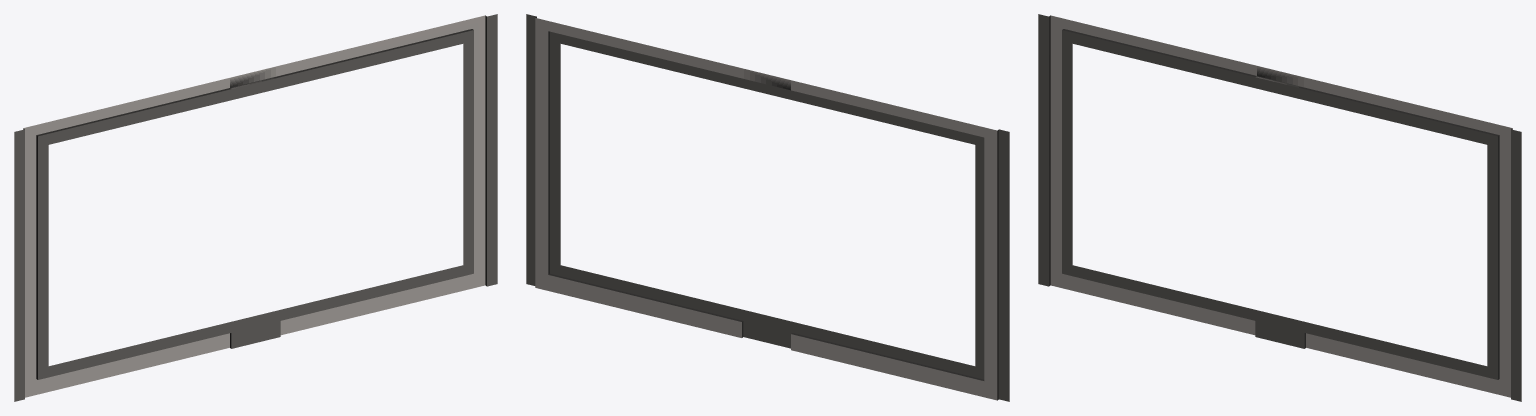
The model's file is glassWall.fbx.
3 renders of one model, left to right at view 1: azimuth 30°, elevation 25°; view 2: azimuth 150°, elevation 25°; view 3: azimuth 330°, elevation 25°, orthographic.
Visible parts, largest first — view 1: SO_Wall_Door_01; view 2: SO_Wall_Door_01; view 3: SO_Wall_Door_01.
Part boxes in pixels (x1,y1,x2,y2): SO_Wall_Door_01: (14,14,497,401); SO_Wall_Door_01: (526,14,1009,401); SO_Wall_Door_01: (1038,14,1521,401).
Size of the model in its own units: 0.0937 by 0.05 by 0.000549.
